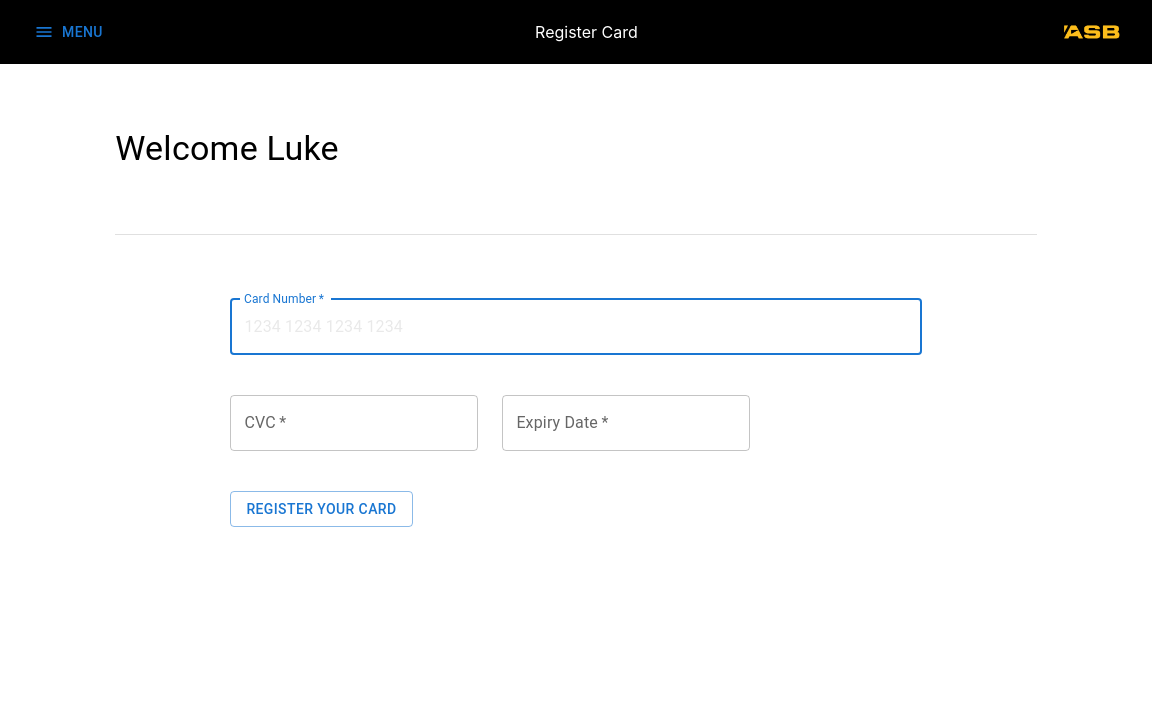
it: Menu › closes when the menu button is clicked
What coordinates should you click on to do the following:
click the button "Menu"
I would click on:
 (70, 32)
Its box is [30,14,111,50].
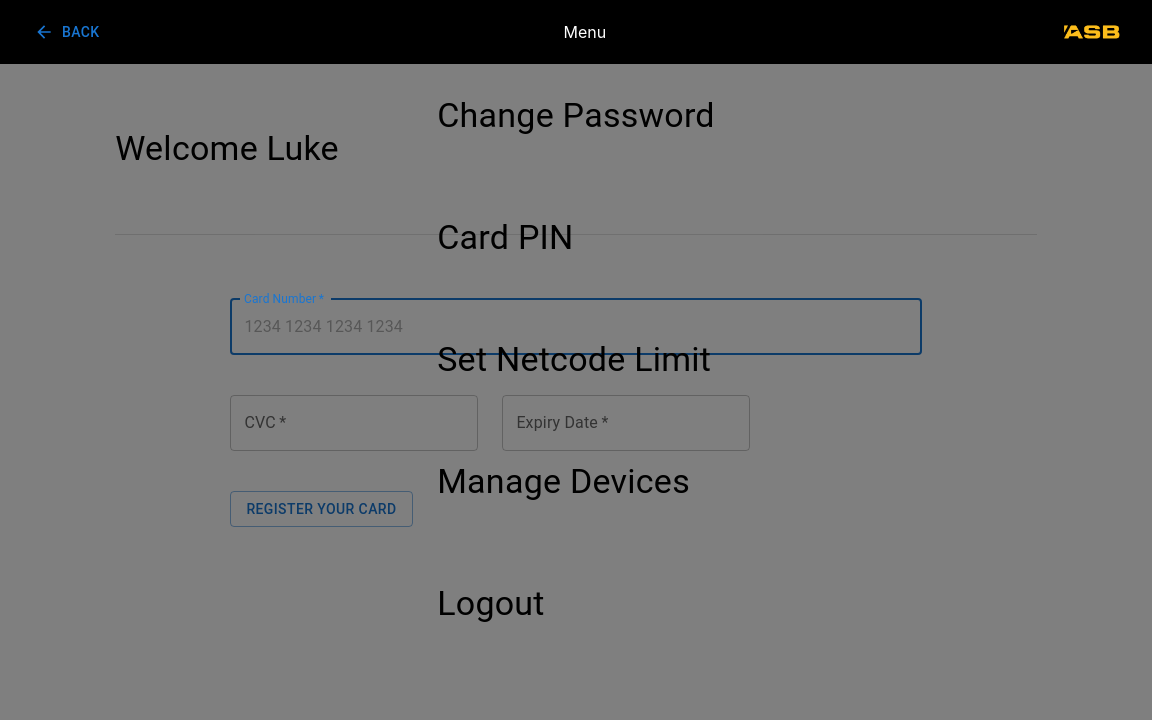
Expected: the heading "Change Password" is shown, [437,95,715,137]
What coordinates should you click on to do the following:
click the button "Back"
I would click on:
 (69, 32)
Its box is [30,14,108,50].
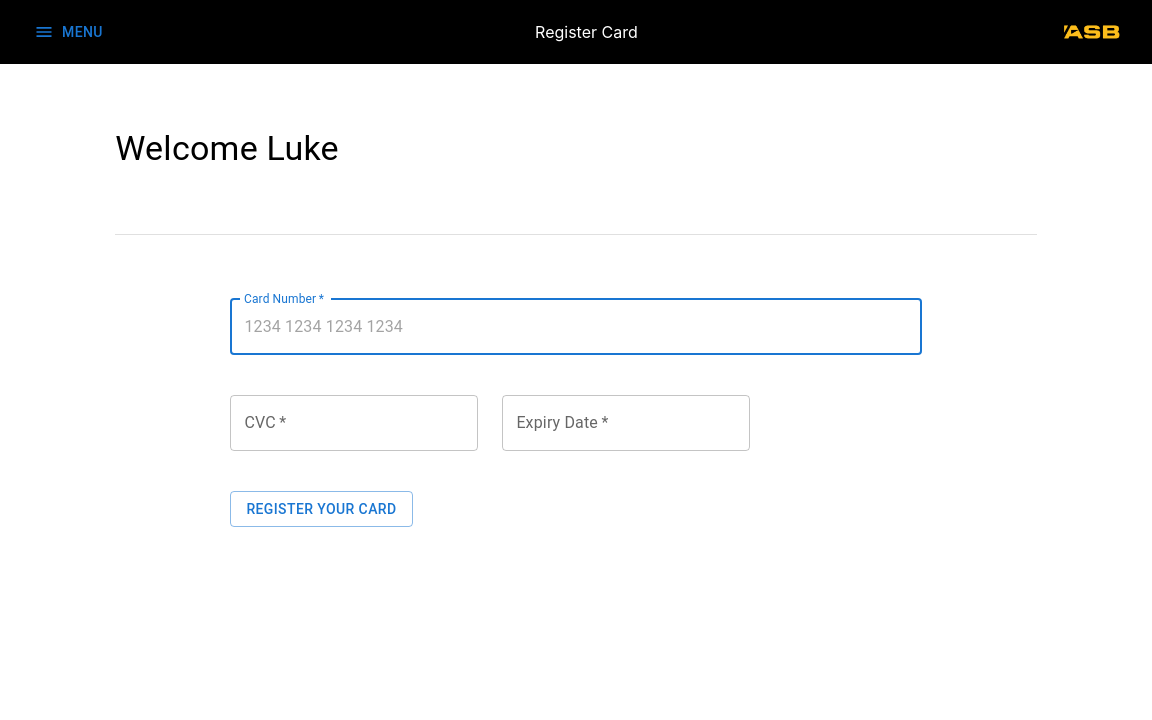
Expected: the menu item "Change Password" is gone
